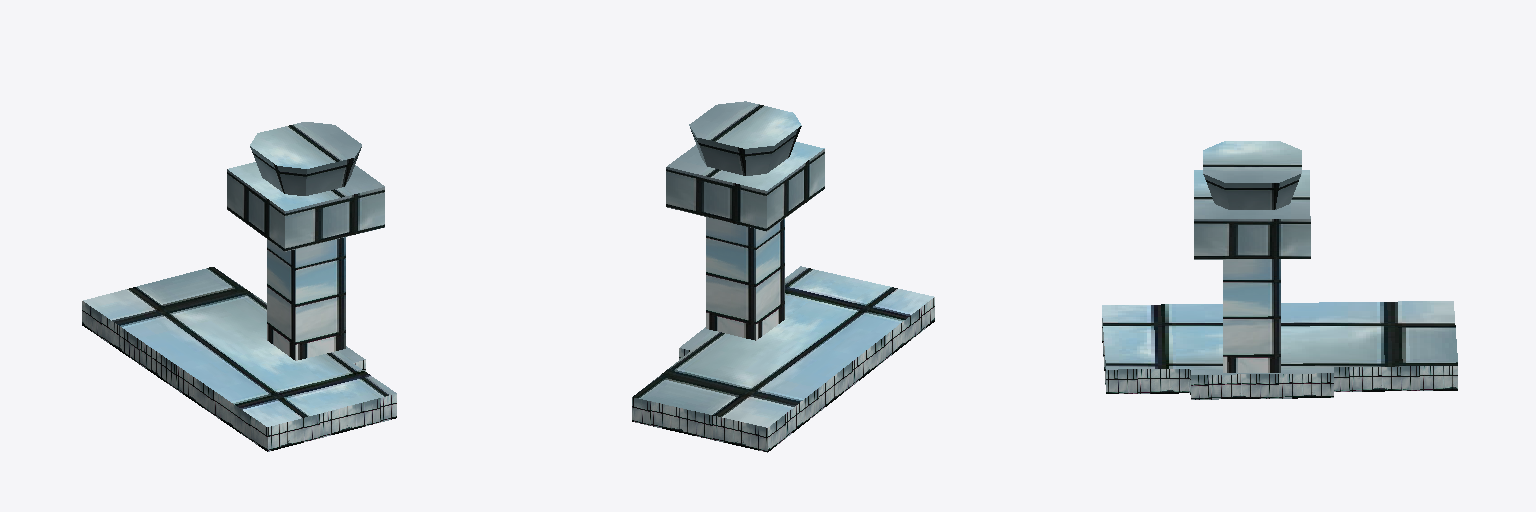
The picture shows the model from 3 angles: view 1: azimuth 30°, elevation 25°; view 2: azimuth 150°, elevation 25°; view 3: azimuth 270°, elevation 25°; orthographic projection.
Visible parts, largest first — view 1: 3d-model.003; view 2: 3d-model.003; view 3: 3d-model.003.
Part boxes in pixels (left/top/right/bottom): 3d-model.003: left=82, top=122, right=396, bottom=451; 3d-model.003: left=632, top=101, right=934, bottom=452; 3d-model.003: left=1102, top=141, right=1457, bottom=399.
Bounding box in the file's own units: 27.04 × 33.33 × 48.16.
Materials: 1 (1 with a texture image).